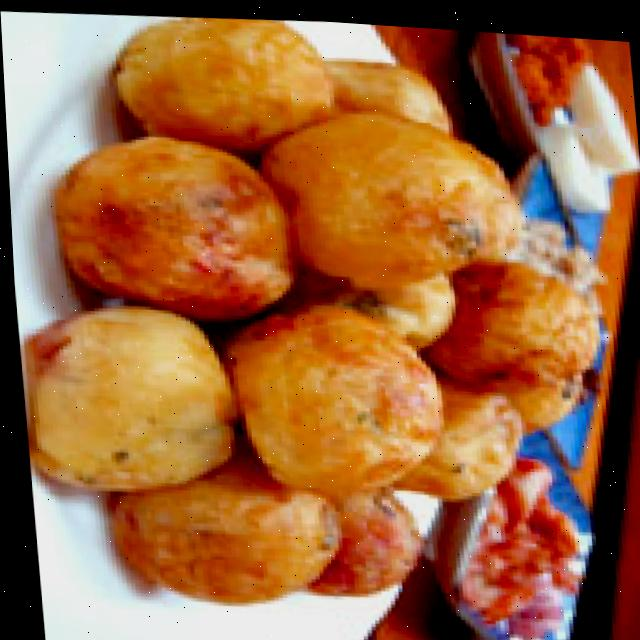炸货点心: (0, 0, 613, 630)
